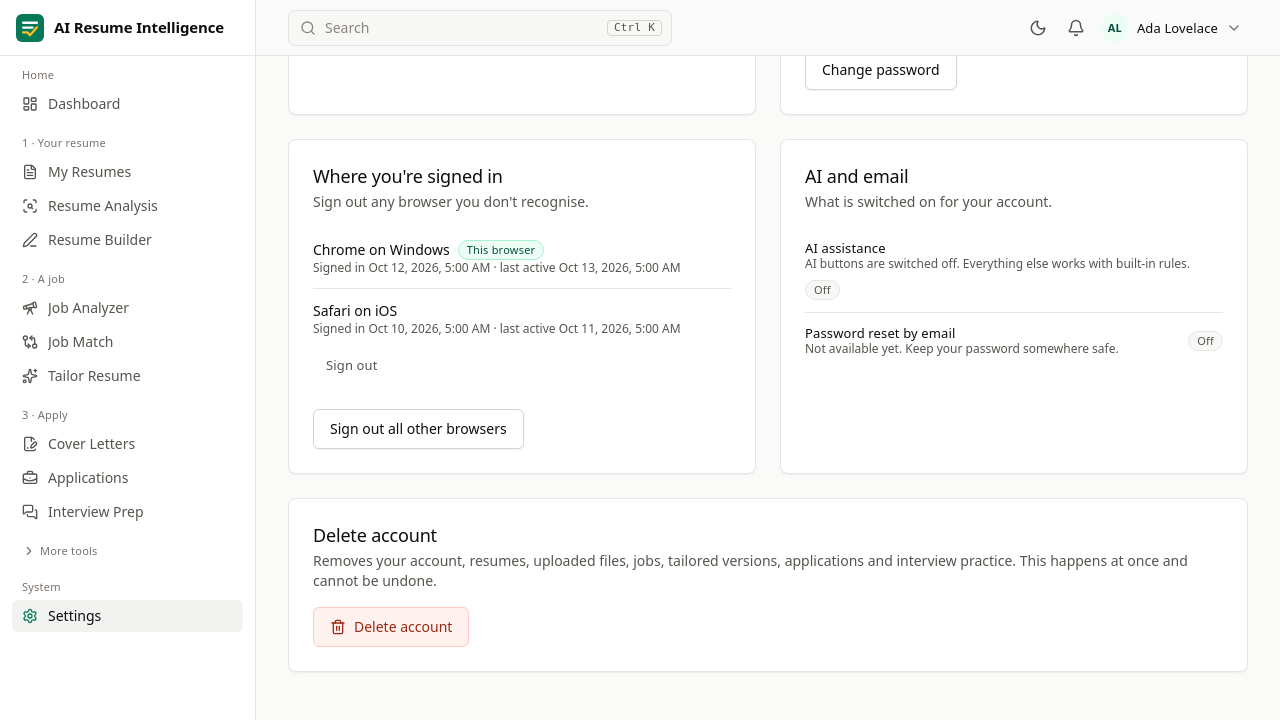
Test case: Settings › deletes the account after the password is entered and goes to sign in
(page scrolled)
Click the button "Delete account" at (391, 627), box [313, 607, 469, 647]
(page scrolled)
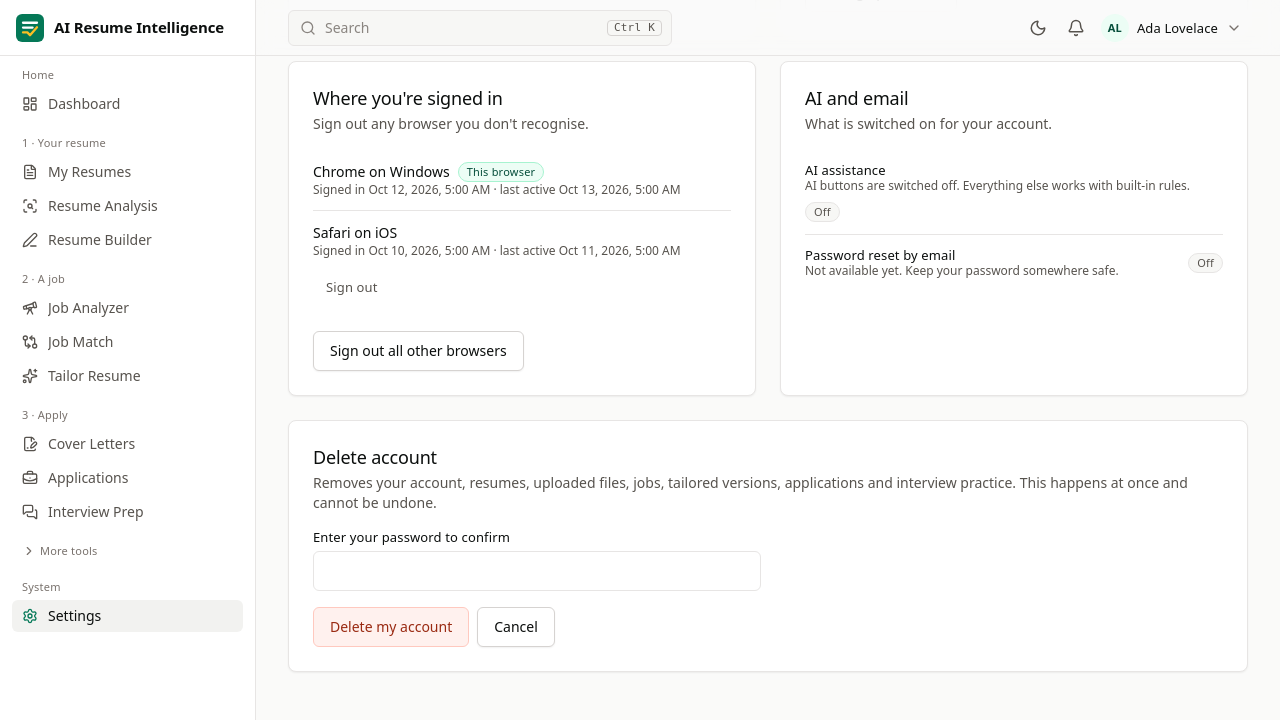
Click the button "Delete my account" at (391, 627), box [313, 607, 469, 647]
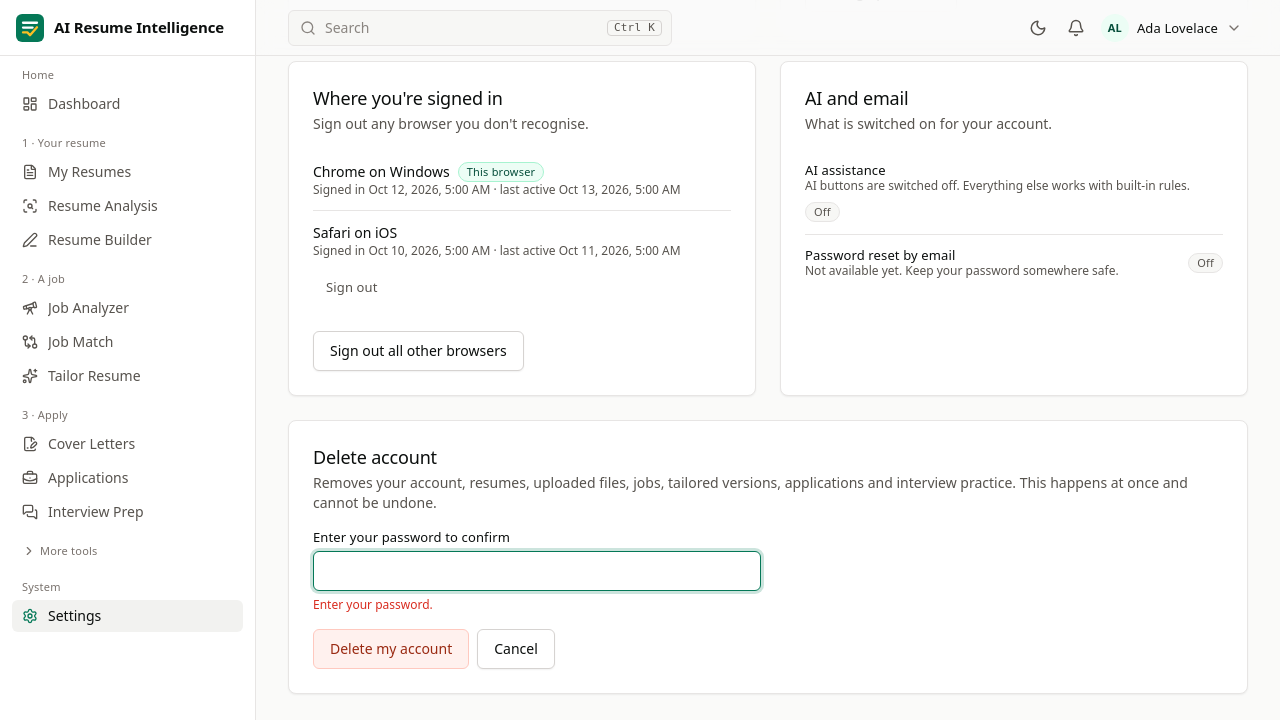
Expected: the text "Enter your password." is shown, [313, 596, 433, 613]
Type "correct-horse" into the password field labelled "Enter your password to confirm" at (537, 571), box [313, 551, 761, 591]
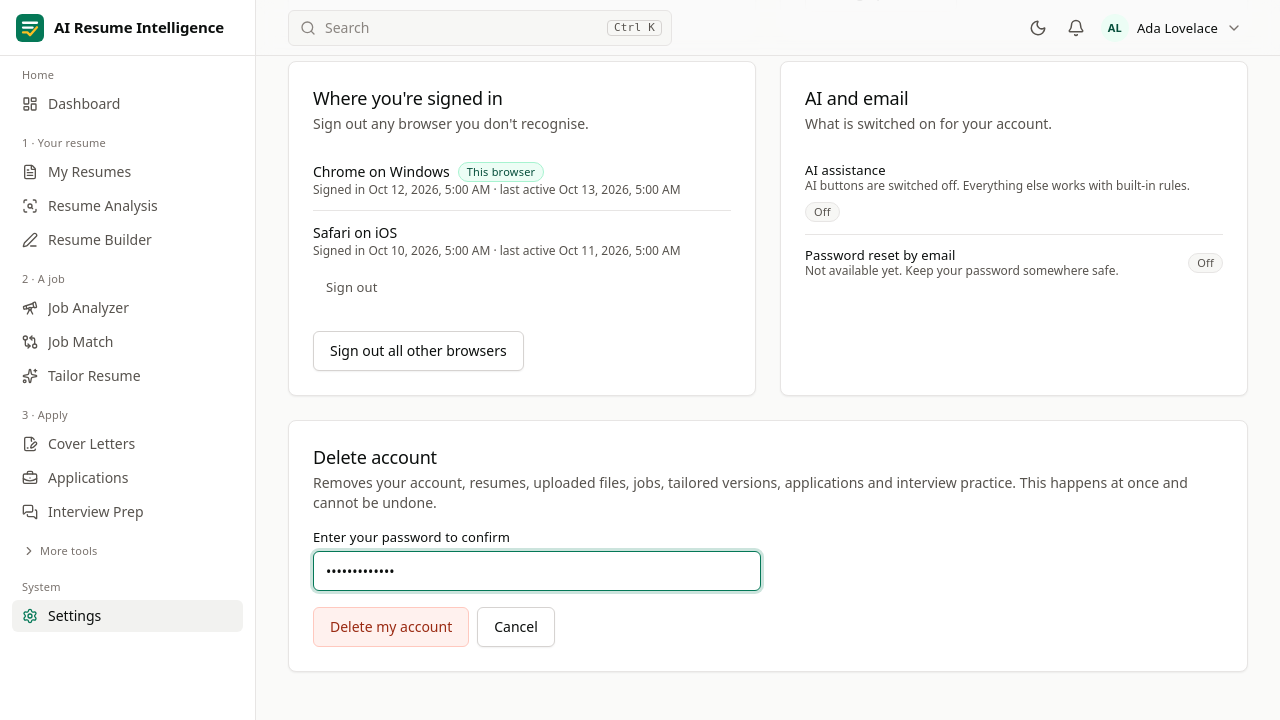
Click the button "Delete my account" at (391, 627), box [313, 607, 469, 647]
(page scrolled)
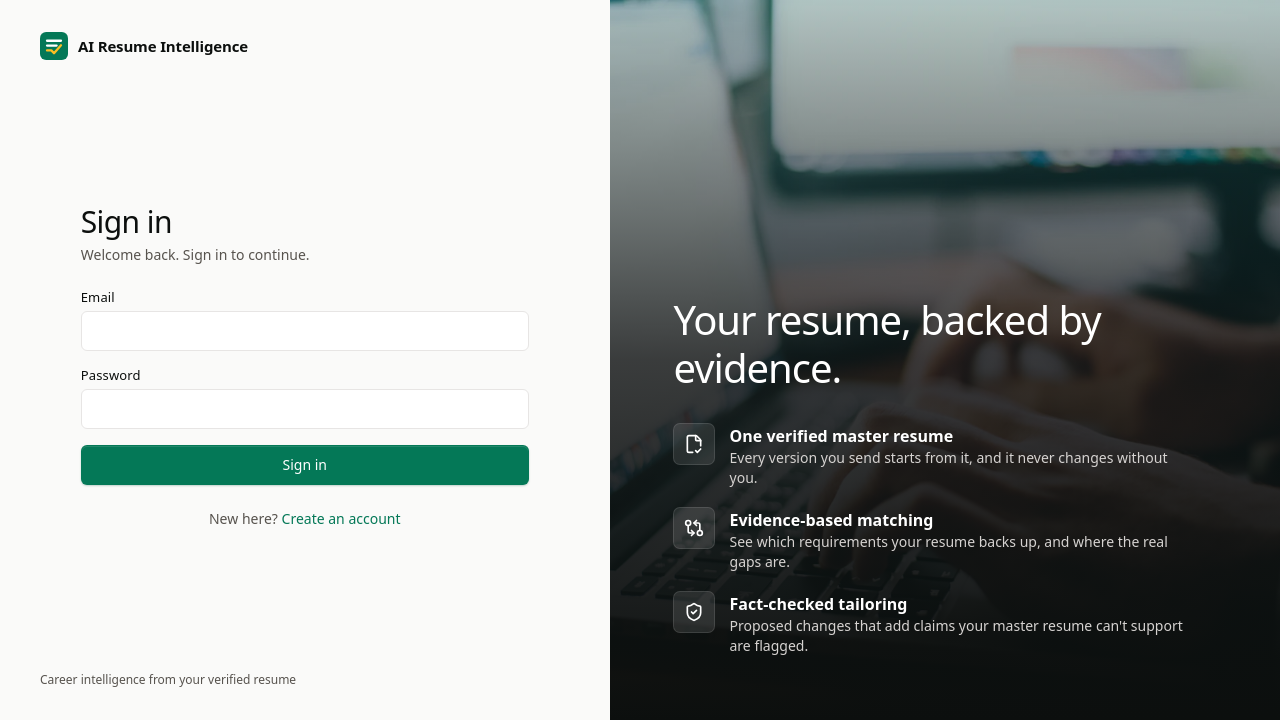
Expected: the heading "Sign in" is shown, [81, 201, 172, 242]
